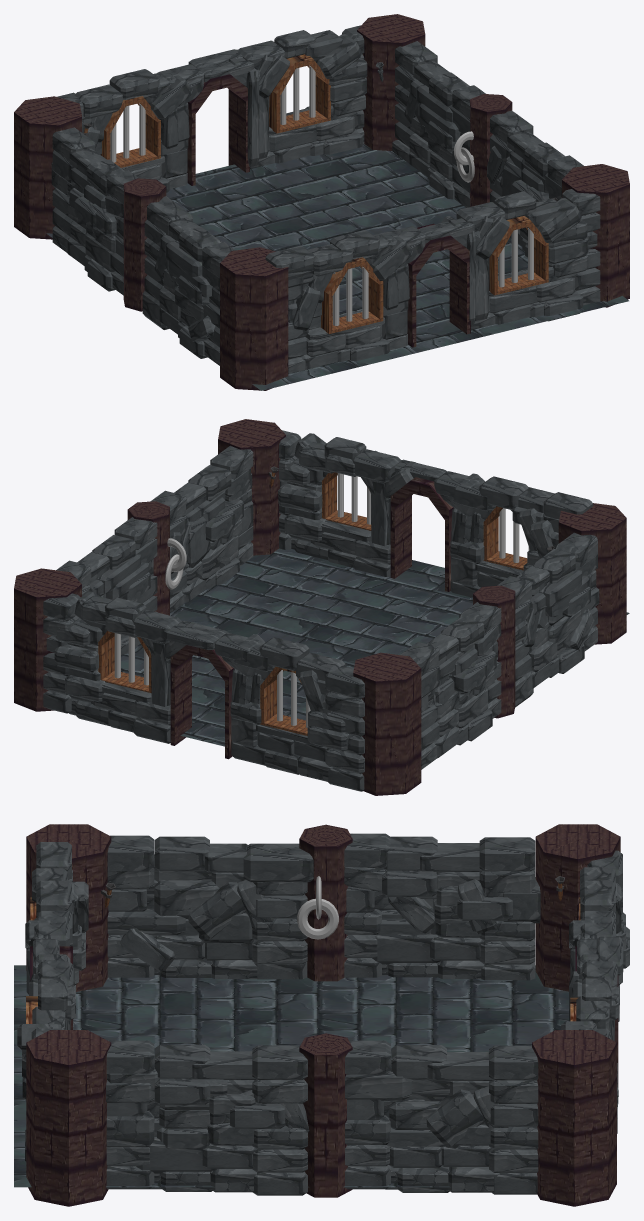
The model's file is room_1.fbx.
3 views of the same model, one above another, from view 1: azimuth 30°, elevation 25°; view 2: azimuth 150°, elevation 25°; view 3: azimuth 270°, elevation 25° (orthographic). The views are drawn at different scales.
Parts seen in each view (by area): view 1: pPlane2; view 2: pPlane2; view 3: pPlane2.
Part boxes in pixels (x1,y1,x2,y2): pPlane2: (14,14,629,390); pPlane2: (14,419,629,795); pPlane2: (14,824,629,1206).
Size of the model in its own units: 0.2097 by 0.0637 by 0.2258.
9 materials, 7 textured.
